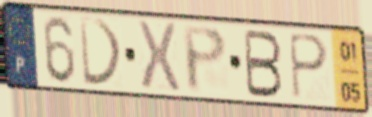6: (41, 12, 77, 87)
B: (242, 27, 285, 100)
D: (77, 14, 126, 88)
P: (180, 24, 229, 96), (287, 30, 331, 102)
X: (134, 17, 183, 93)
